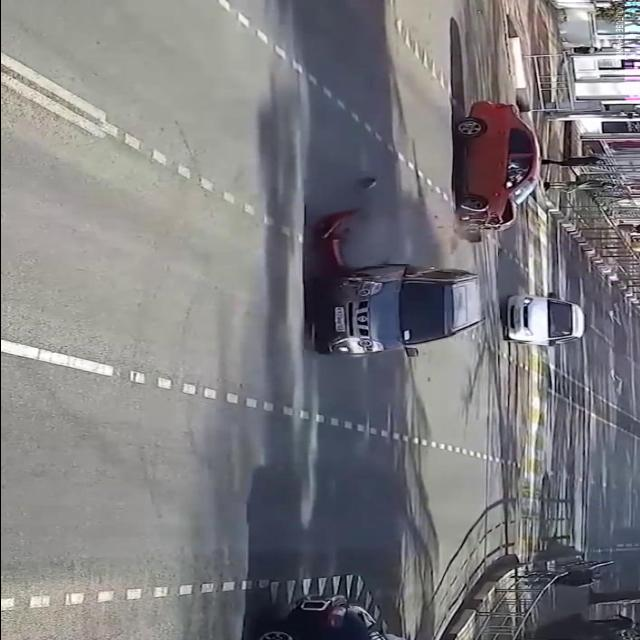accident: (305, 208, 484, 364), (449, 99, 547, 245)
